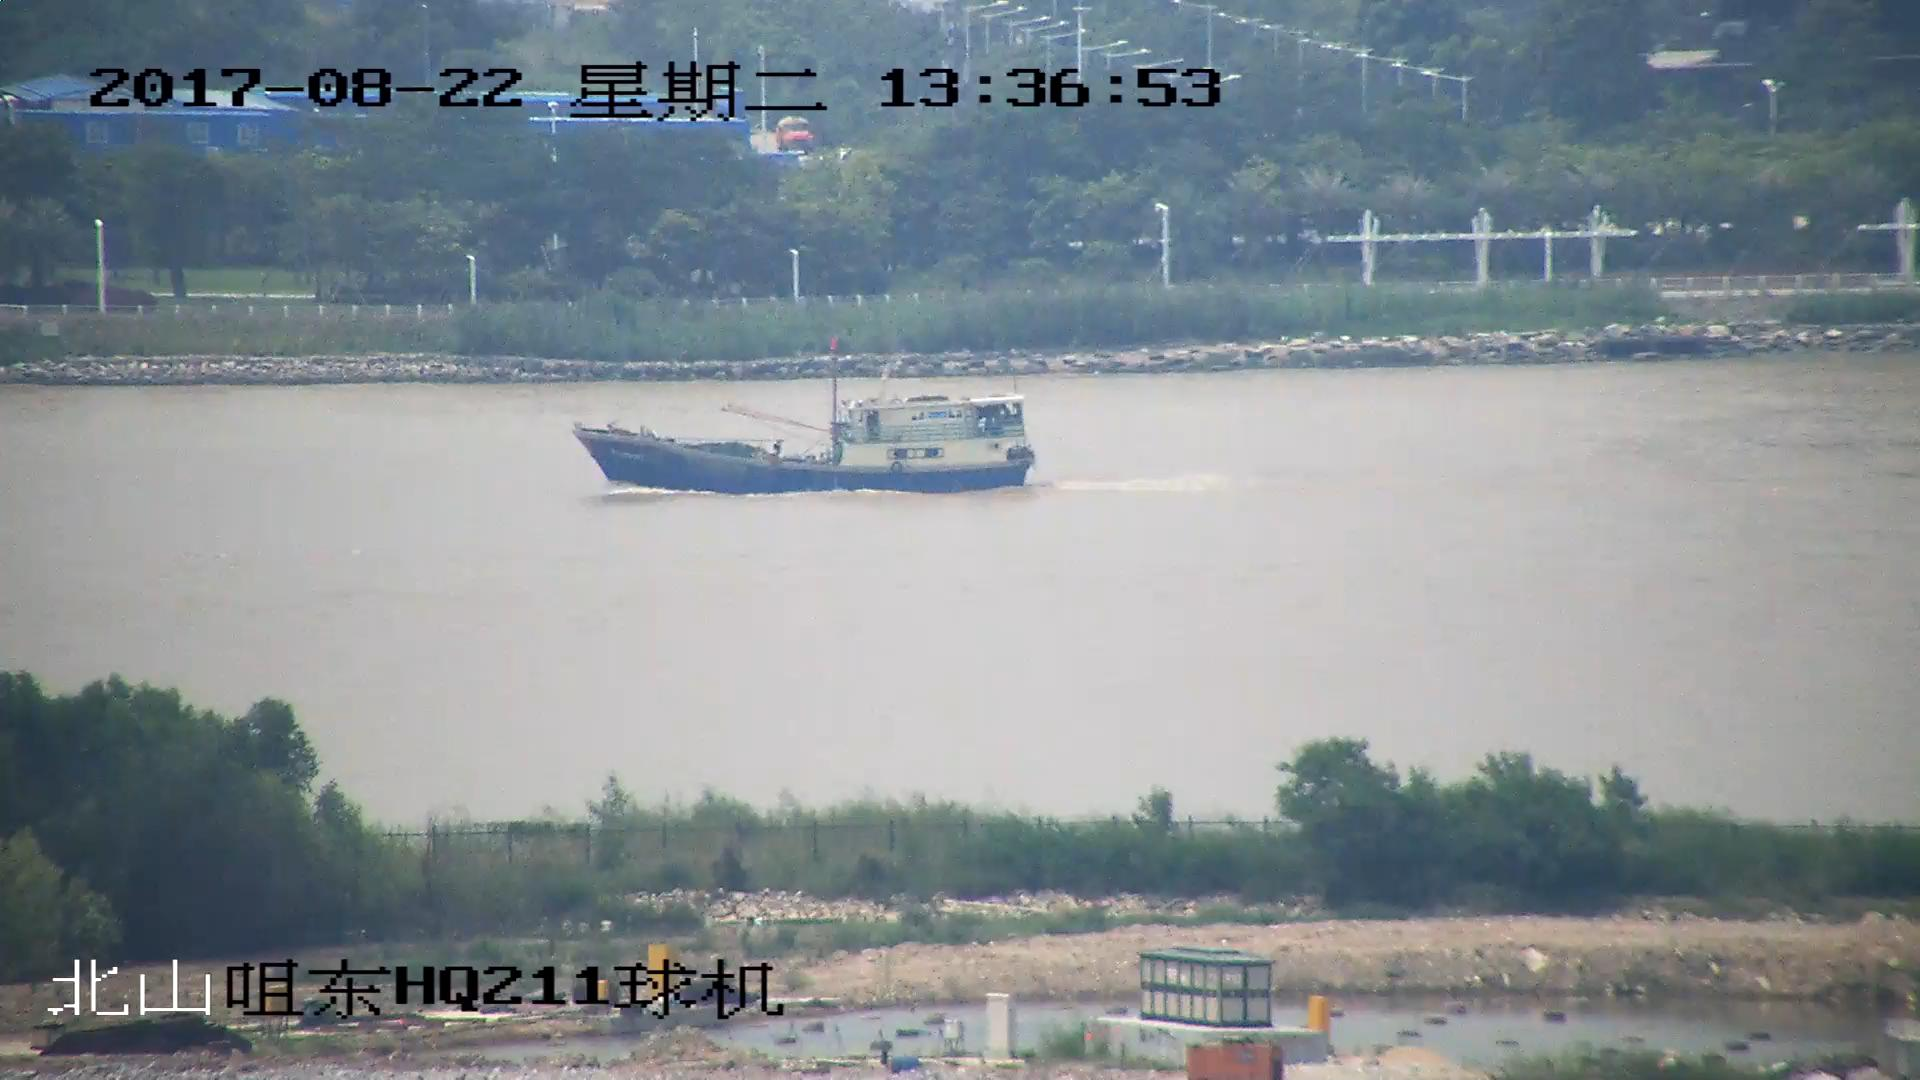fishing boat: (575, 353, 1032, 498)
